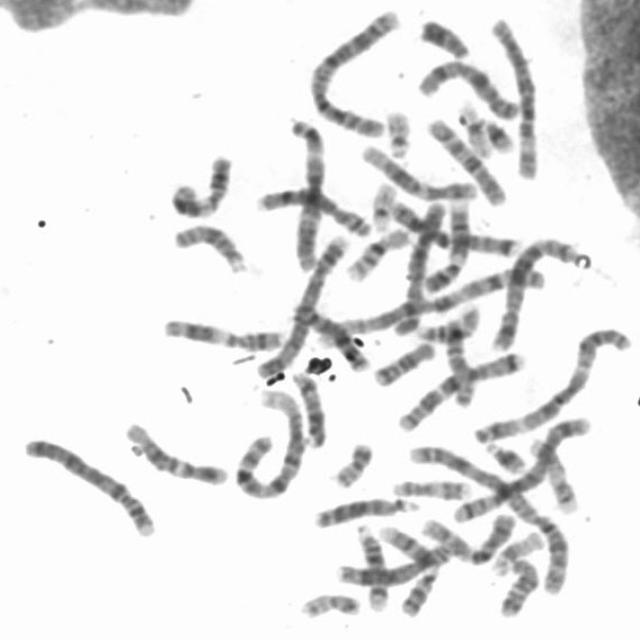A1: (310, 260, 554, 348), (226, 382, 310, 501)
A2: (398, 434, 574, 600), (300, 1, 406, 141)
A3: (466, 318, 634, 446), (282, 110, 329, 274)
B4: (249, 225, 353, 382), (15, 428, 160, 539)
B5: (446, 408, 596, 524), (484, 229, 582, 353)
C10: (419, 108, 511, 208), (414, 504, 520, 565)
C11: (156, 309, 286, 352), (161, 146, 234, 220)
C12: (117, 413, 230, 488), (353, 137, 480, 202)
C6: (482, 9, 543, 182), (393, 200, 450, 332)
C7: (391, 344, 527, 434), (382, 192, 522, 257)
C8: (248, 179, 374, 238), (330, 536, 458, 587)
C9: (372, 518, 440, 618), (417, 192, 475, 296)
D13: (282, 296, 373, 374), (306, 488, 421, 530)
D14: (348, 517, 393, 613), (285, 364, 329, 451)
D15: (166, 215, 251, 275), (436, 302, 482, 409)
E16: (340, 220, 412, 283), (409, 297, 485, 343)
E17: (520, 429, 582, 515), (386, 471, 474, 501)
E18: (366, 333, 437, 388), (491, 551, 543, 619)
F19: (483, 524, 548, 576), (450, 93, 494, 159)
F20: (326, 434, 376, 489), (292, 584, 363, 620)
G21: (478, 433, 530, 475), (476, 110, 517, 155)
G22: (378, 101, 414, 160), (364, 174, 400, 233)
X: (410, 50, 523, 121)
Y: (412, 10, 474, 60)
